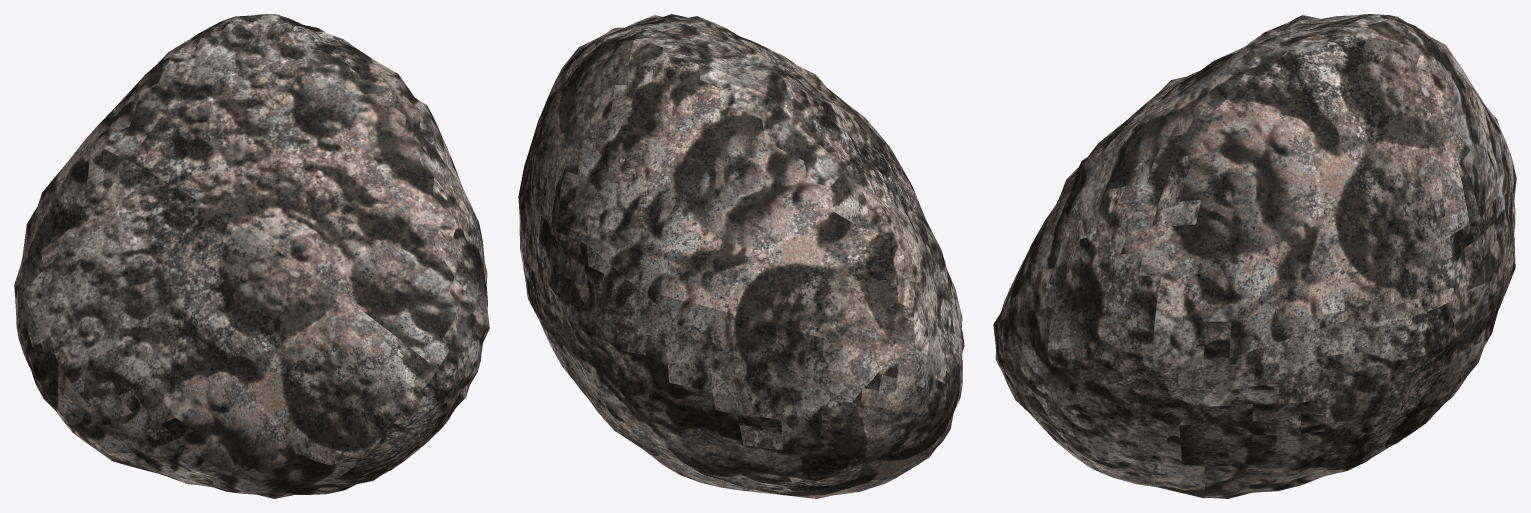
The model's file is asteroid2.glb.
3 renders of one model, left to right at view 1: azimuth 30°, elevation 25°; view 2: azimuth 150°, elevation 25°; view 3: azimuth 270°, elevation 25°, orthographic. The views are drawn at different scales.
Visible parts, largest first — view 1: rock.004; view 2: rock.004; view 3: rock.004.
Boxes of the visible parts, x1,y1,x2,y2 form: rock.004: [14, 14, 489, 498]; rock.004: [518, 14, 964, 498]; rock.004: [993, 14, 1516, 498].
Bounding box in the file's own units: 0.8359 × 0.8369 × 0.8394.
1 material, 1 textured.
